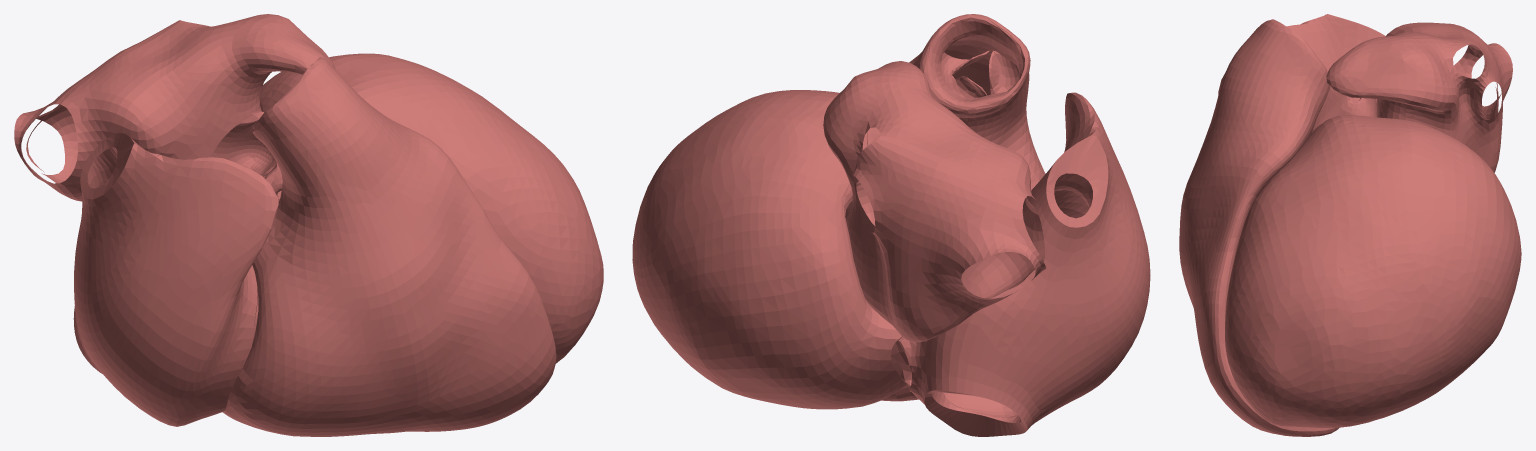
File: VH_F_Heart_0.6.glb
The picture shows the model from 3 angles, left to right: view 1: azimuth 30°, elevation 25°; view 2: azimuth 150°, elevation 25°; view 3: azimuth 270°, elevation 25°; orthographic projection. The views are drawn at different scales.
Visible parts, largest first — view 1: VH_F_right_ventricle, VH_F_right_cardiac_atrium, VH_F_left_ventricle, VH_F_left_cardiac_atrium, VH_F_aortic_valve; view 2: VH_F_left_ventricle, VH_F_right_cardiac_atrium, VH_F_left_cardiac_atrium, VH_F_right_ventricle, VH_F_pulmonary_valve; view 3: VH_F_left_ventricle, VH_F_right_ventricle, VH_F_left_cardiac_atrium, VH_F_right_cardiac_atrium, VH_F_aortic_valve.
Boxes of the visible parts, x1,y1,x2,y2 form: VH_F_right_ventricle: (222, 57, 556, 436); VH_F_right_cardiac_atrium: (73, 133, 278, 426); VH_F_left_ventricle: (259, 53, 603, 363); VH_F_left_cardiac_atrium: (14, 14, 335, 201); VH_F_aortic_valve: (211, 111, 282, 202); VH_F_left_ventricle: (632, 90, 906, 409); VH_F_right_cardiac_atrium: (890, 92, 1150, 436); VH_F_left_cardiac_atrium: (823, 61, 1046, 342); VH_F_right_ventricle: (881, 14, 1045, 401); VH_F_pulmonary_valve: (940, 50, 1019, 110); VH_F_left_ventricle: (1225, 115, 1521, 427); VH_F_right_ventricle: (1179, 19, 1339, 436); VH_F_left_cardiac_atrium: (1326, 22, 1512, 172); VH_F_right_cardiac_atrium: (1218, 14, 1385, 102); VH_F_aortic_valve: (1312, 86, 1377, 132).
Size of the model in its own units: 0.1426 by 0.1101 by 0.1015.
